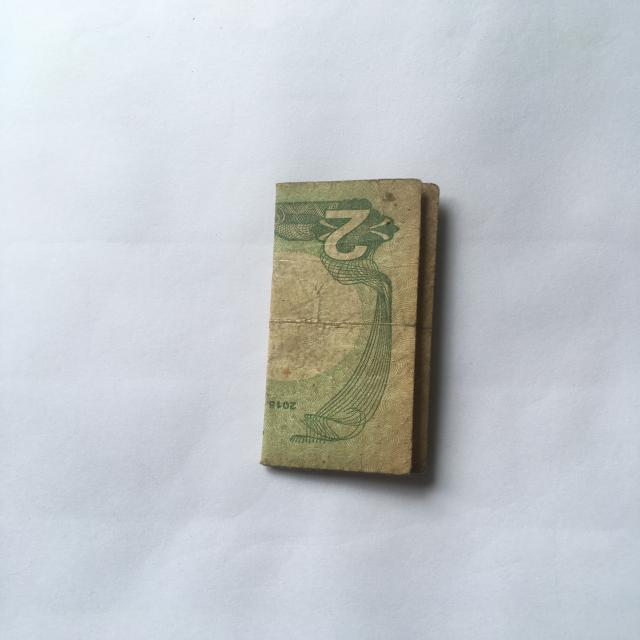Taka: (270, 175, 423, 476)
